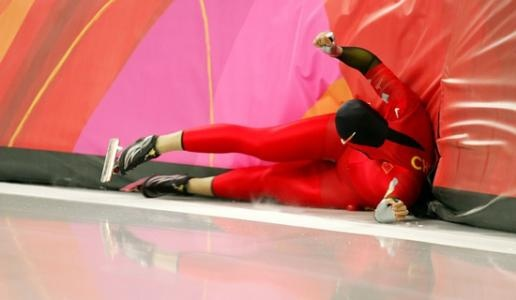falling: (100, 13, 459, 222)
